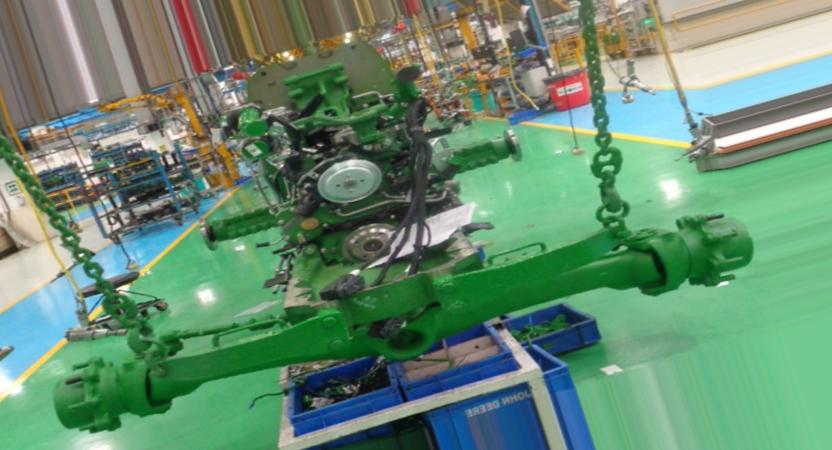engine: (47, 39, 755, 434)
